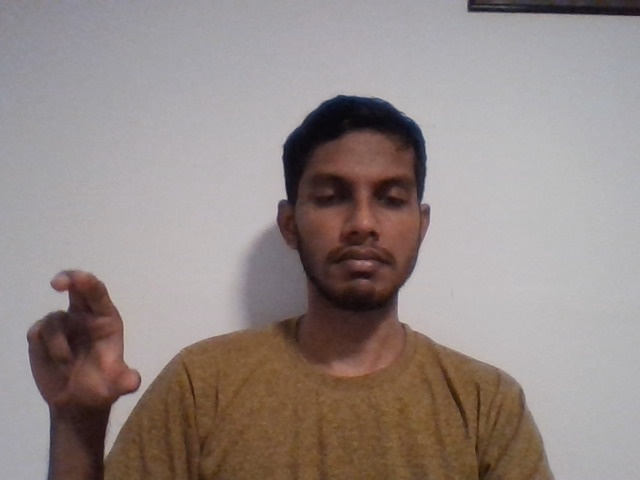no: (10, 259, 168, 414)
